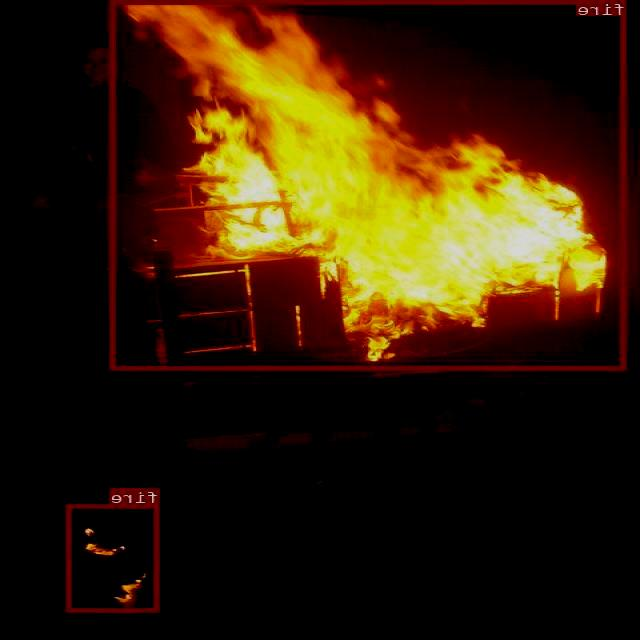fire: (112, 0, 628, 370), (68, 504, 160, 612)
